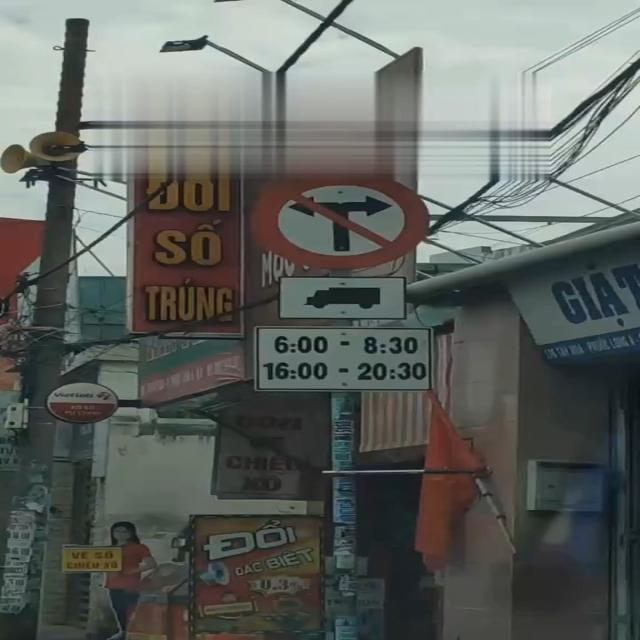137-cam-re-trai-va-re-phai: (248, 172, 432, 268)
